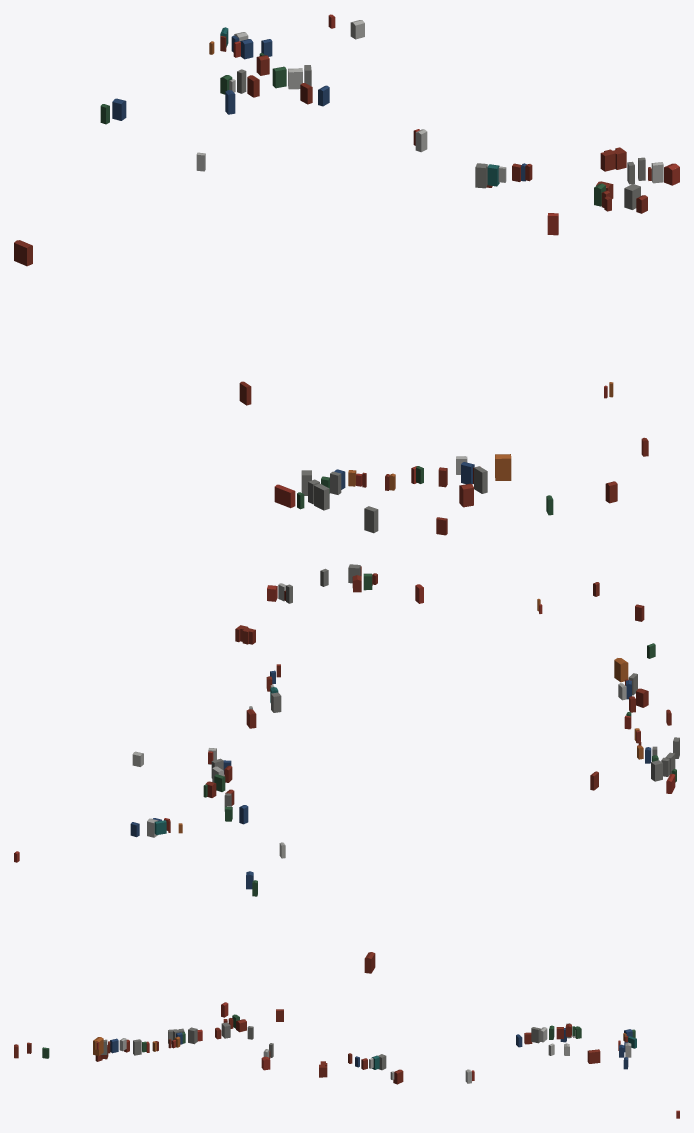
The model's file is near-15-27356-14864.1e71b4ec.glb.
3 renders of one model, top to bottom at view 1: azimuth 30°, elevation 25°; view 2: azimuth 150°, elevation 25°; view 3: azimuth 270°, elevation 25°, orthographic. The views are drawn at different scales.
Bounding box in the file's own units: 561 × 258 × 1139.
